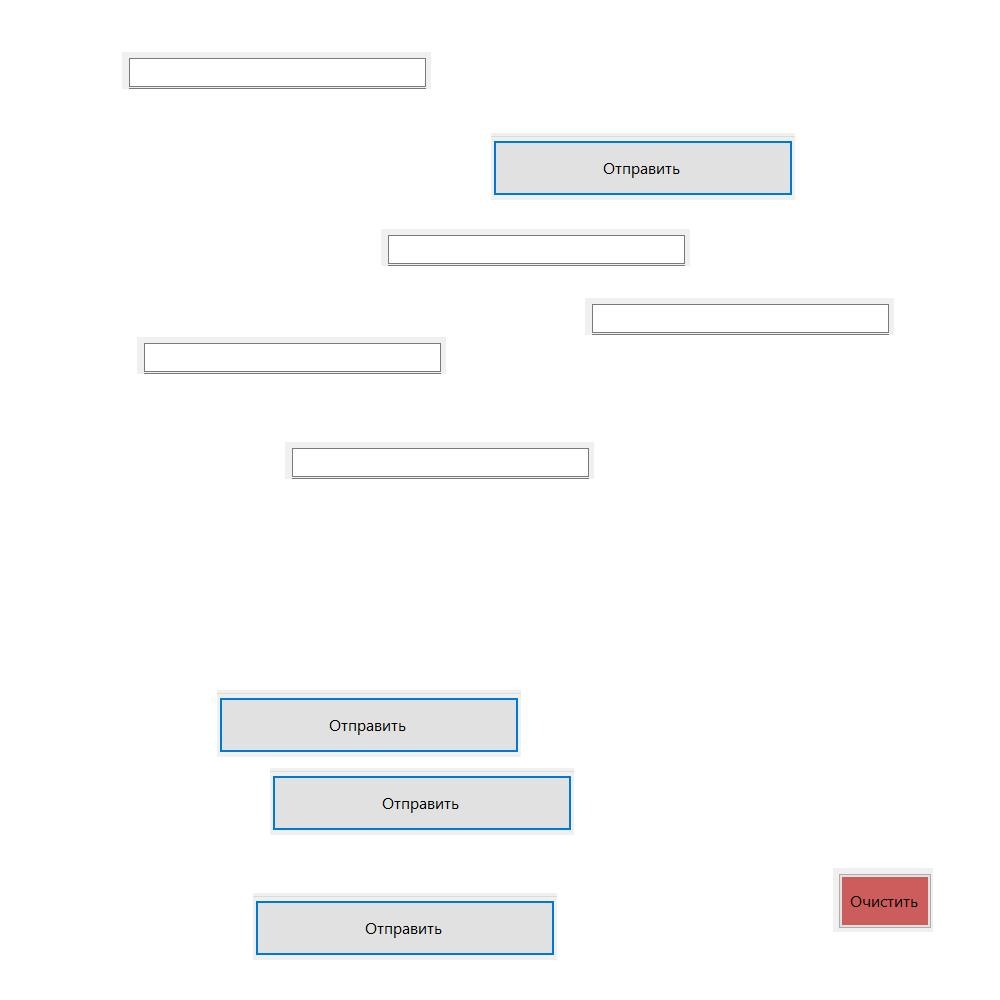Button: (253, 893, 557, 960), (491, 133, 795, 200), (217, 690, 521, 757), (270, 768, 574, 835), (833, 868, 933, 932)
EditText-: (122, 52, 431, 89), (381, 229, 690, 266), (285, 442, 594, 479), (137, 337, 446, 374), (585, 298, 894, 335)
